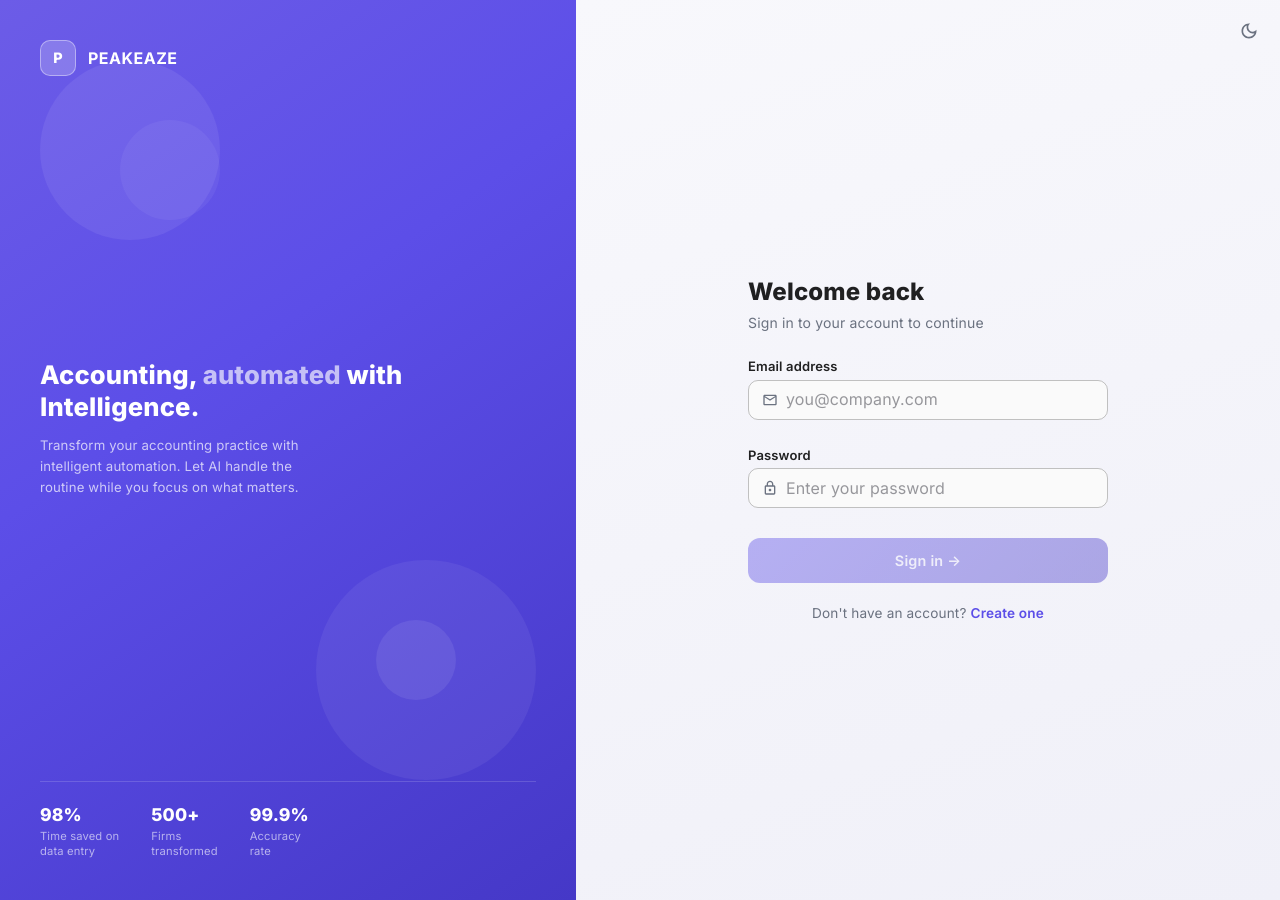
Test case: LoginPage › shows password validation error when password is too short
This screenshot has width=1280, height=900.
Step 1. Type "short" into the password field with placeholder "Enter your password" → {"x": 947, "y": 488}, box [786,468,1108,508]
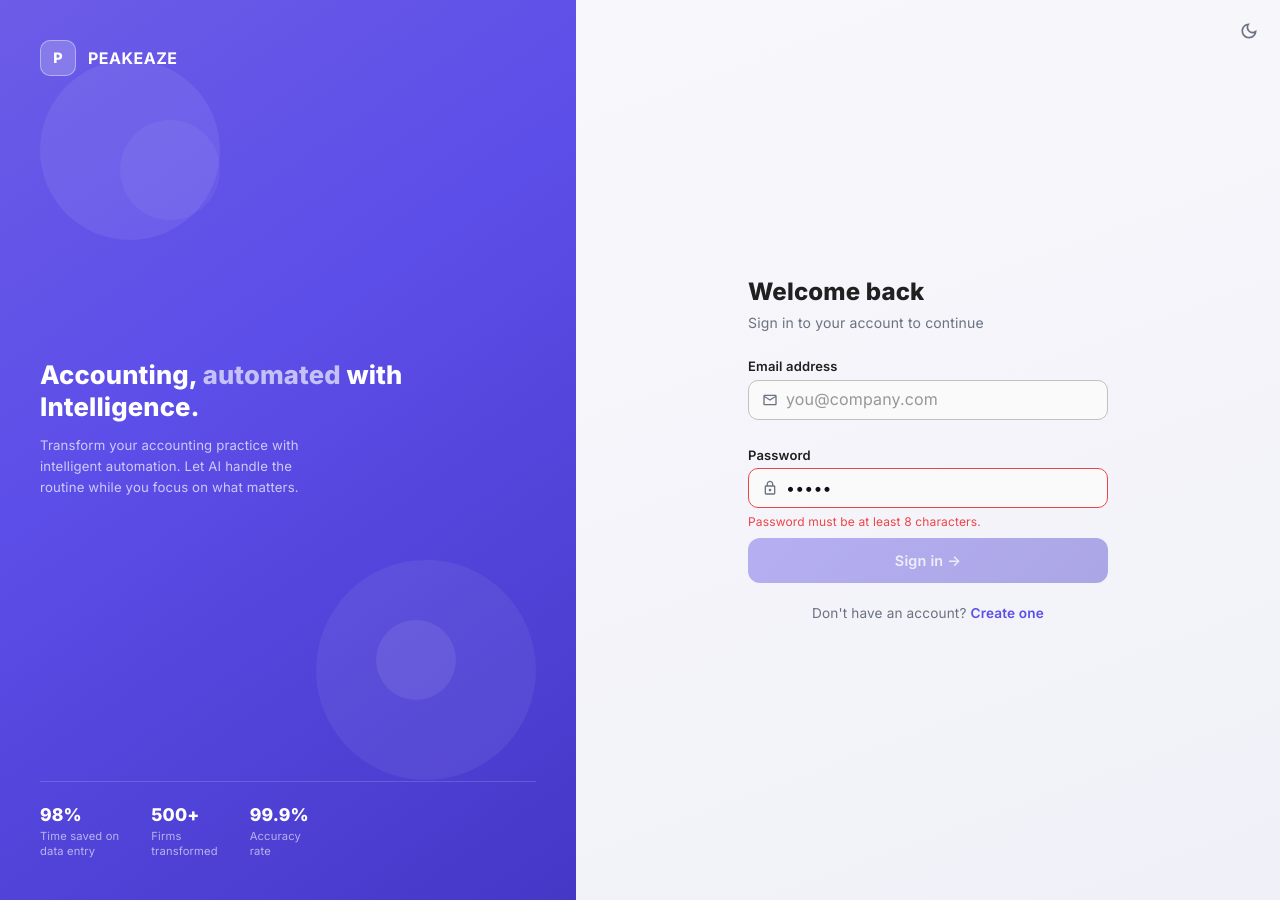
Expected: the text "Password must be at least 8 characters." is shown, [748,514,981,529]
